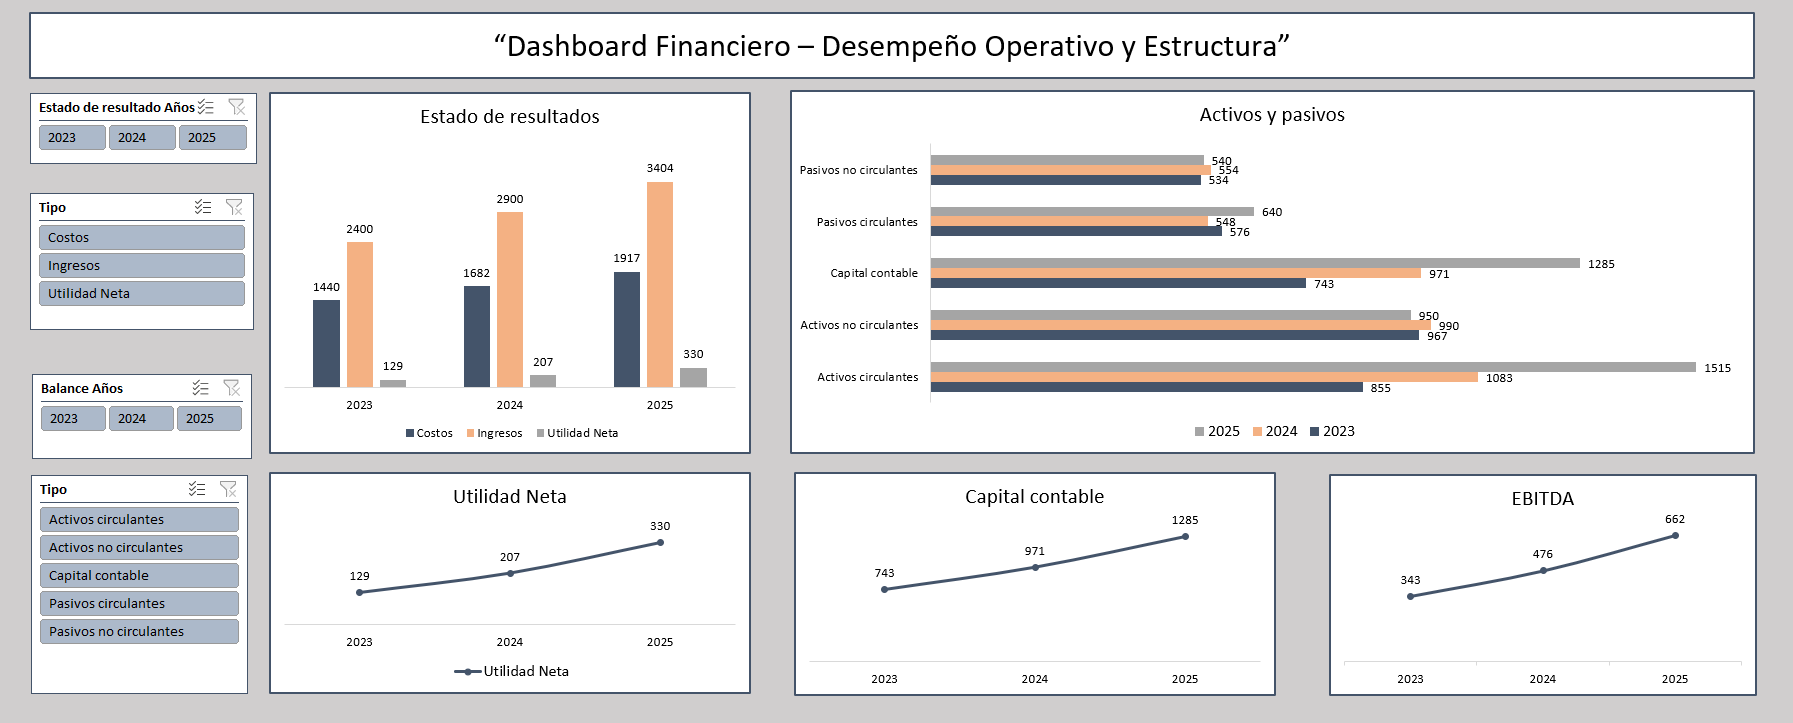

The dashboard page shown, as its layout file describes it:
{"tool":"powerbi","page":{"name":"dashboard estados","canvas":[1280,720],"ordinal":0},"visuals":[{"type":"clusteredColumnChart","title":"Estado de Resultados","fields":{"Category":["Estadoderesultado.Año"],"Y":["Sum(Estadoderesultado.Monto)"],"Series":["Estadoderesultado.Tipo"]},"box":[235.4,117.7,431.9,359.9],"z":0},{"type":"lineChart","title":"Utilidad Neta","fields":{"Category":["Estadoderesultado.Año"],"Y":["Sum(Estadoderesultado.Monto)"],"Series":["Estadoderesultado.Tipo"]},"box":[363.8,504.8,303.5,201.3],"z":1000},{"type":"textbox","box":[11.6,9.9,1261.8,84.2],"z":2000},{"type":"lineChart","title":"EBITDA","fields":{"Category":["EBITDA.Año"],"Y":["Sum(EBITDA.Monto)"],"Series":["EBITDA.Tipo"]},"box":[986,505.1,287.5,201.5],"z":3000},{"type":"lineChart","title":"Capital Contable","fields":{"Category":["Balance.Año"],"Y":["Sum(Balance.Monto)"],"Series":["Balance.Tipo"]},"box":[686.9,505.1,277.6,201.5],"z":4000},{"type":"clusteredBarChart","title":"Balance","fields":{"Y":["Sum(Balance.Monto)"],"Category":["Balance.Tipo"],"Series":["Balance.Año"]},"box":[686.7,117.7,586.5,359.9],"z":5000},{"type":"advancedSlicerVisual","fields":{"Values":["EBITDA.Año"]},"box":[219.8,504.8,118.7,201.3],"z":6000},{"type":"advancedSlicerVisual","fields":{"Values":["Balance.Tipo"]},"box":[11.7,117.7,193.6,359.9],"z":7000},{"type":"advancedSlicerVisual","title":"Estado de Resultados","fields":{"Values":["Estadoderesultado.Tipo"]},"box":[11.7,504.8,193.6,201.3],"z":8000}]}

Visuals, with their boxes on the page's 1280x720 design canvas (x1, y1, x2, y2). These are canvas units, not pixel positions in the 1793x723 screenshot, which may show the page scaled, cropped or inside an application window:
"Estado de Resultados" clusteredColumnChart: 235, 118, 667, 478
"Utilidad Neta" lineChart: 364, 505, 667, 706
textbox: 12, 10, 1273, 94
"EBITDA" lineChart: 986, 505, 1274, 707
"Capital Contable" lineChart: 687, 505, 964, 707
"Balance" clusteredBarChart: 687, 118, 1273, 478
advancedSlicerVisual - EBITDA.Año: 220, 505, 338, 706
advancedSlicerVisual - Balance.Tipo: 12, 118, 205, 478
"Estado de Resultados" advancedSlicerVisual: 12, 505, 205, 706
